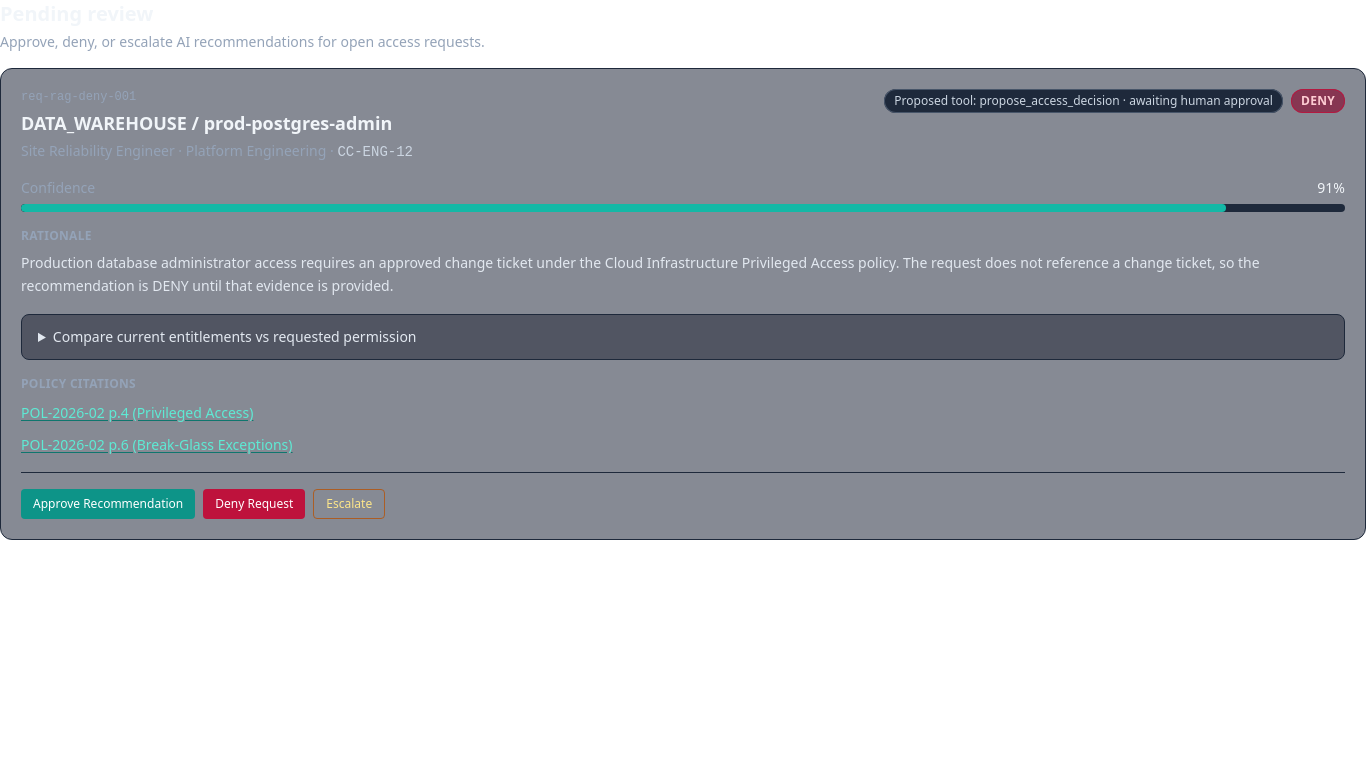
Test case: HitlReviewPage › opens a citation modal with policy chunk content
Click the button "POL-2026-02 p.4 (Privileged Access)" at (137, 412), box [21,402,253,422]
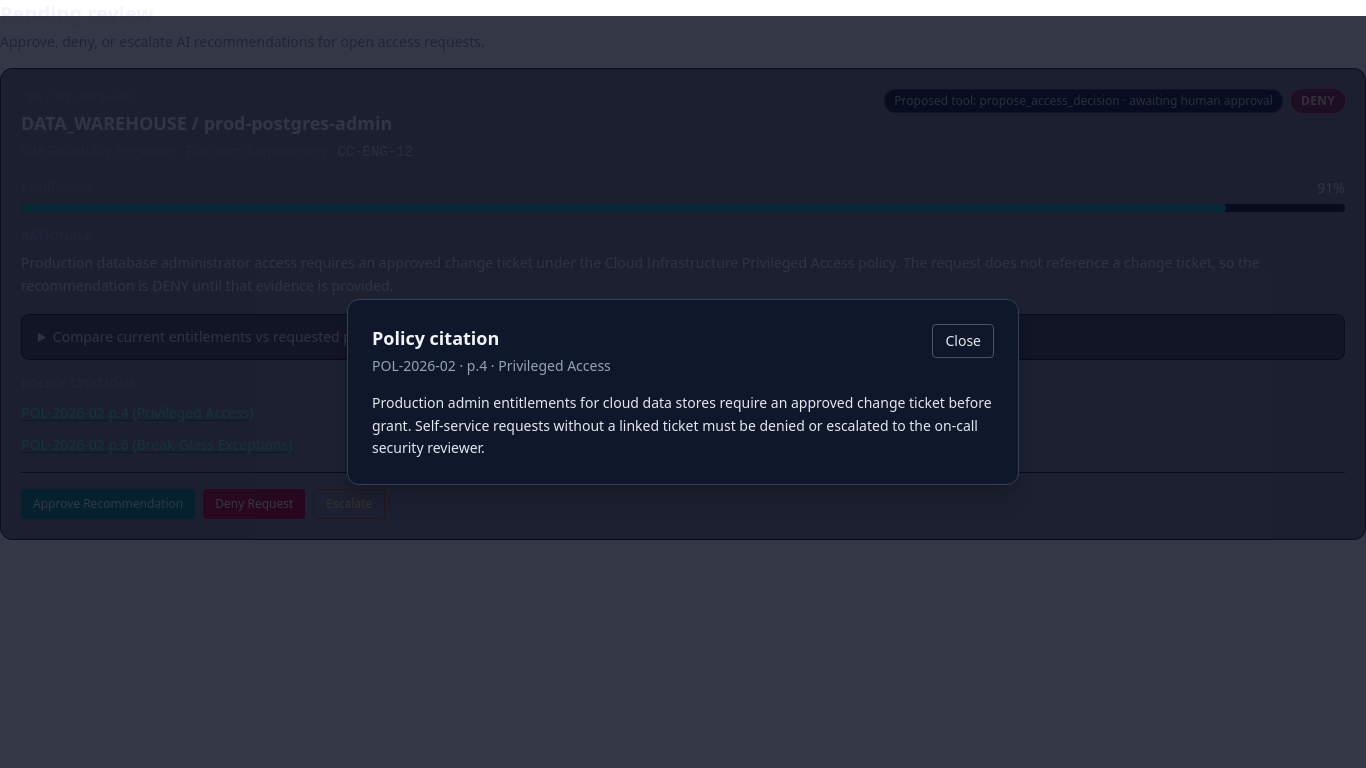
Now the dialog is shown, box [347,299,1019,485]
Now the text "POL-2026-02 · p.4 · Privileged Access" is shown, box [372,356,611,376]
Now the text "Production admin entitlements for cloud data stores require an approved change ticket before grant. Self-service request" is shown, box [372,393,995,457]
